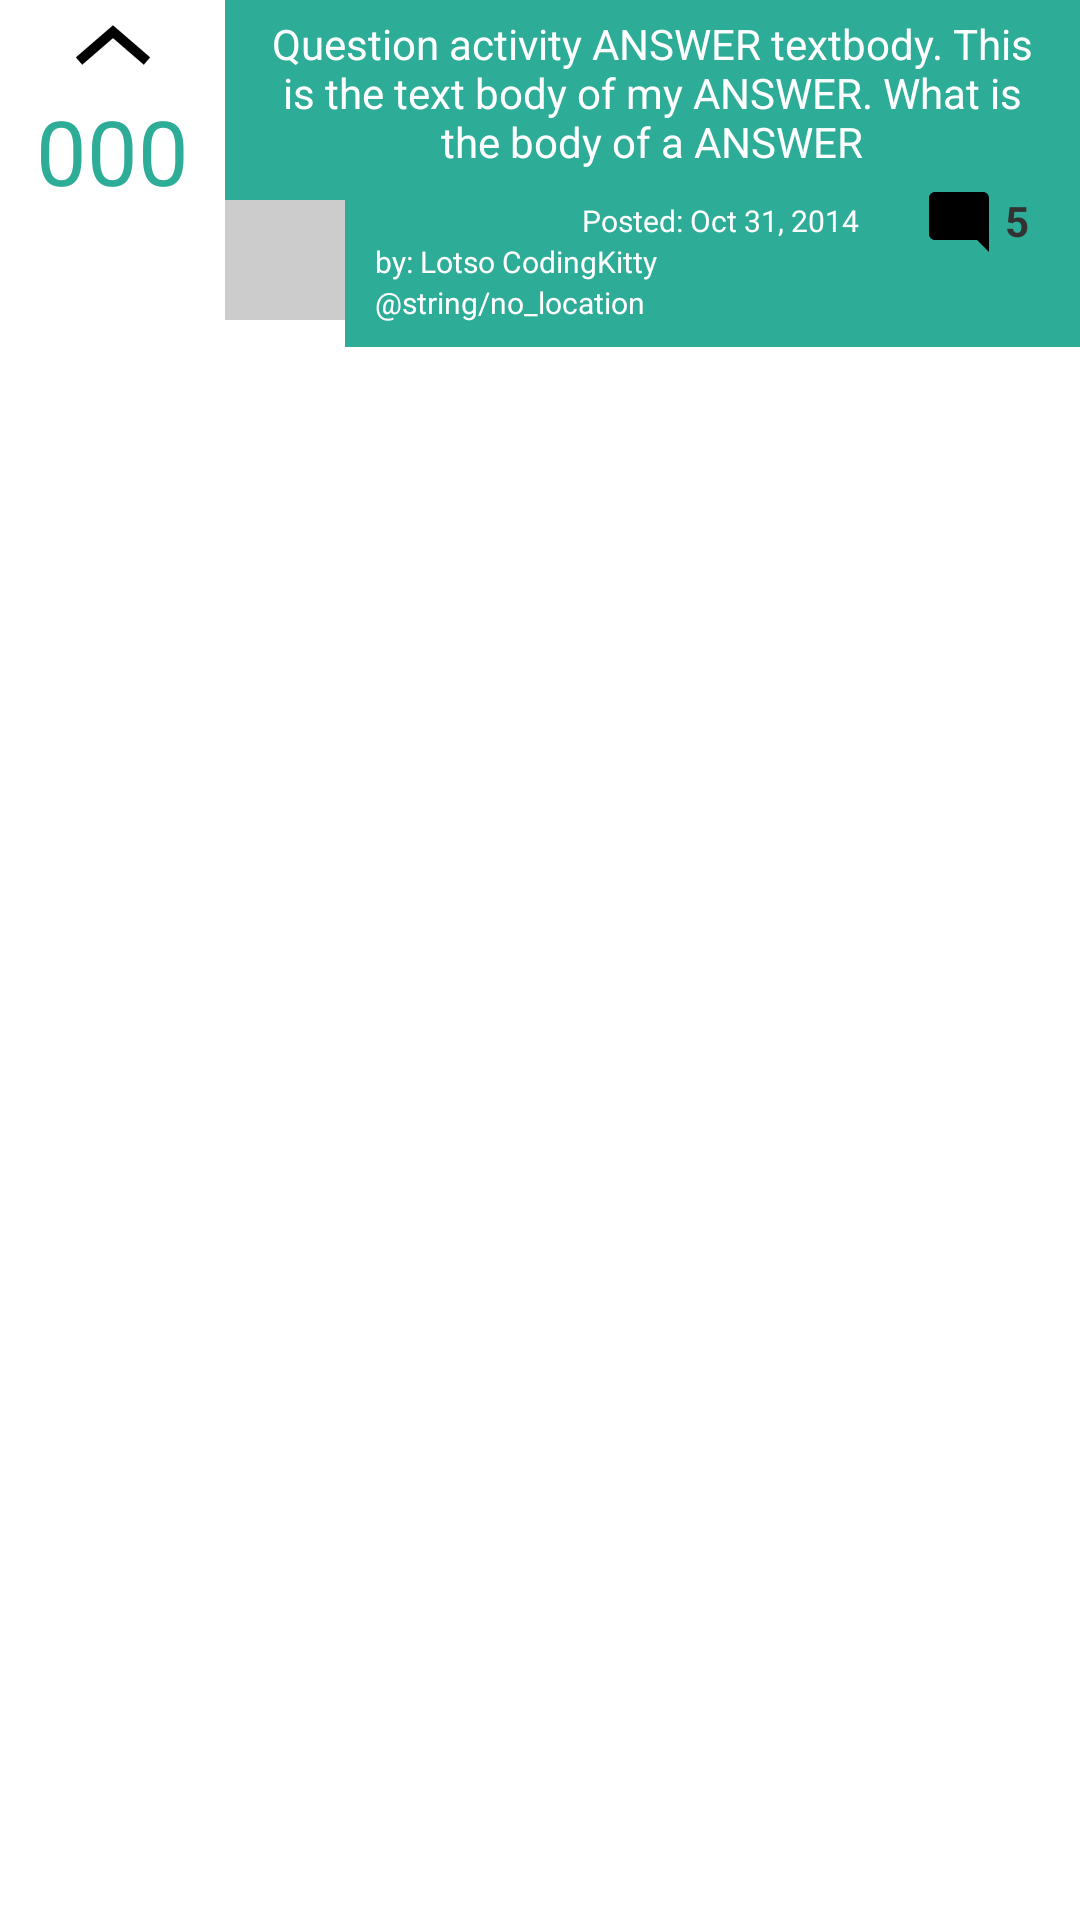

Named icons in this screenshot (1080px x 1920px) and their bounding boxes, (x1, y1, x2, y2):
comment: (929, 192, 989, 252)
upvote: (76, 25, 150, 65)
